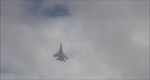maybay_muctieu: (53, 42, 69, 63)
